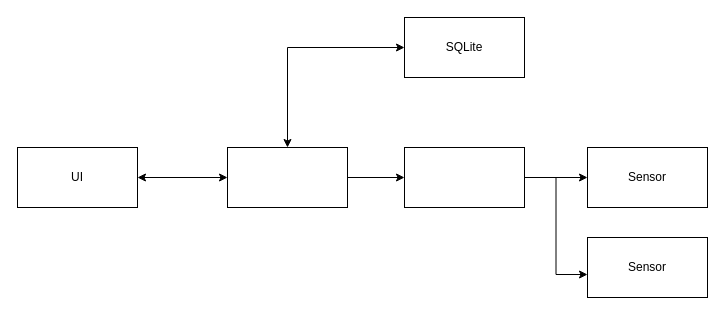
Image size: 725x315. Some labels were removed from this diagram. Each missing label, with the centre of its shape:
"Server Application" belongs at [287,177].
"UDP" belongs at [464,177].
